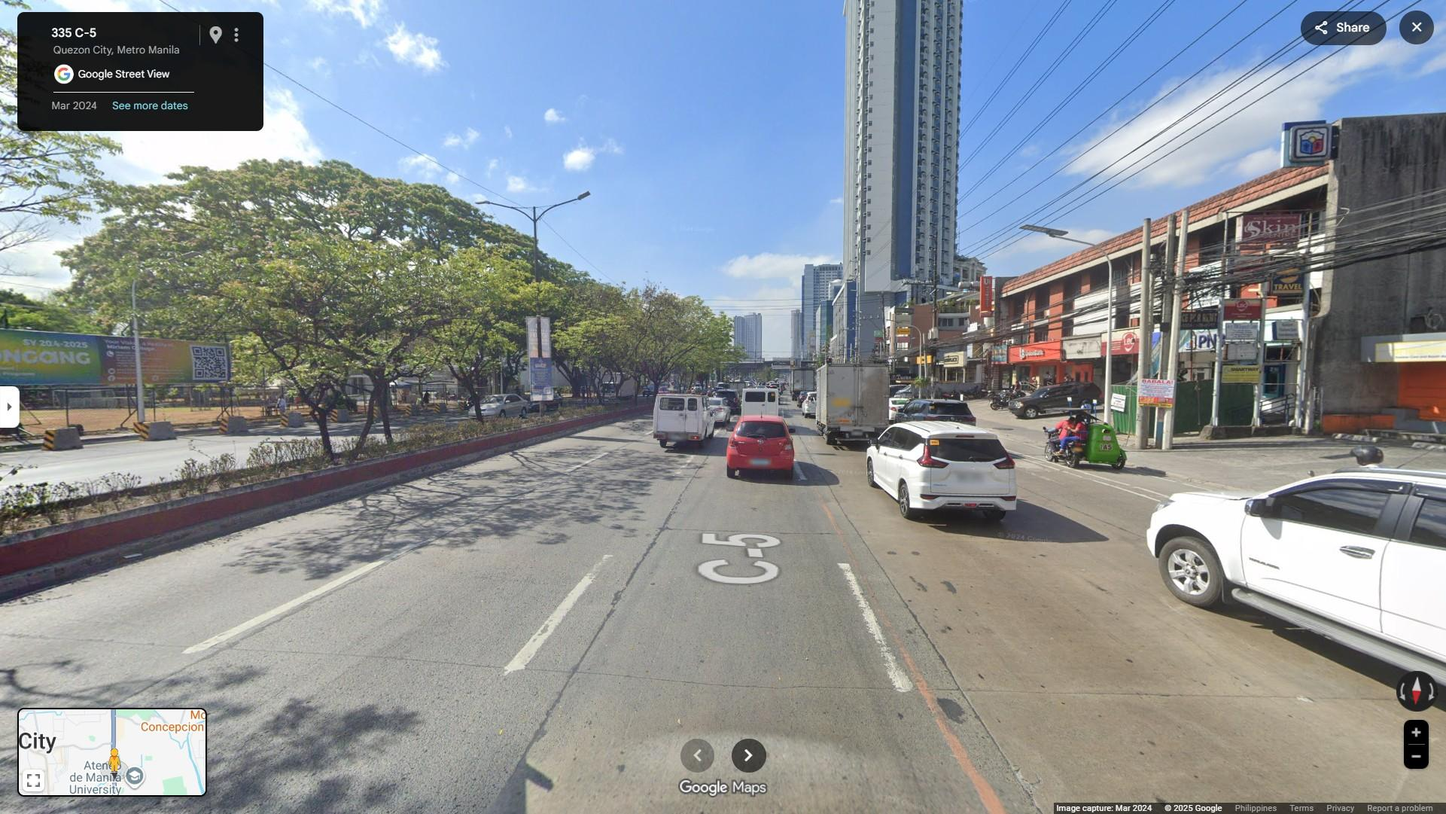pedestrian: (1063, 374, 1075, 402), (1043, 371, 1053, 392), (1012, 380, 1021, 399)
